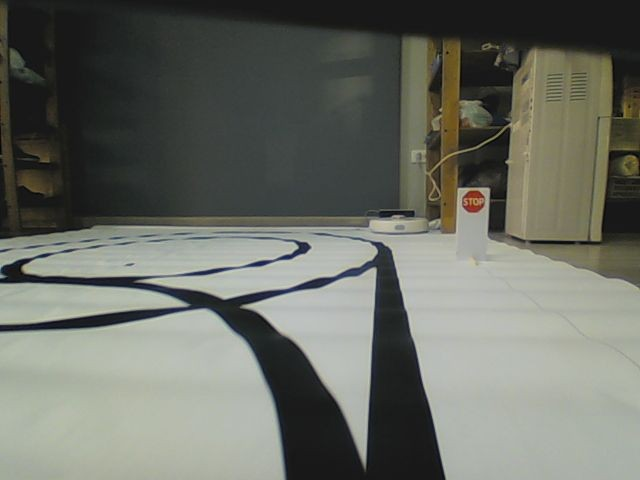Stop: (461, 190, 484, 215)
